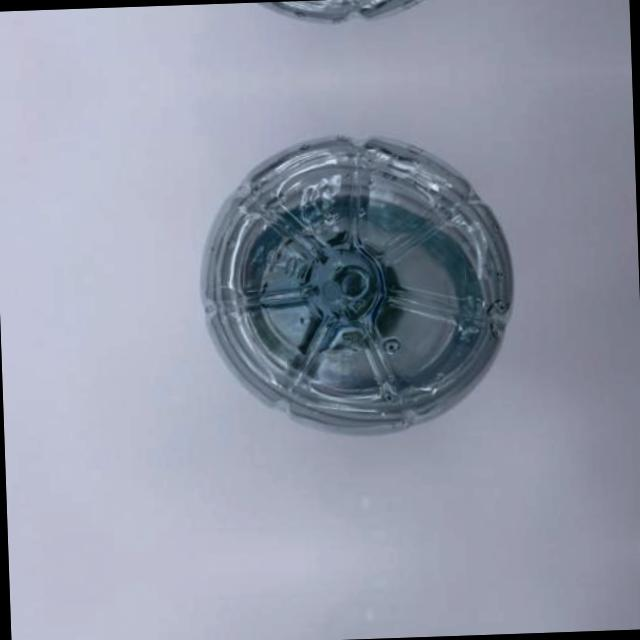Plastic: (176, 122, 523, 442), (172, 0, 509, 35)
